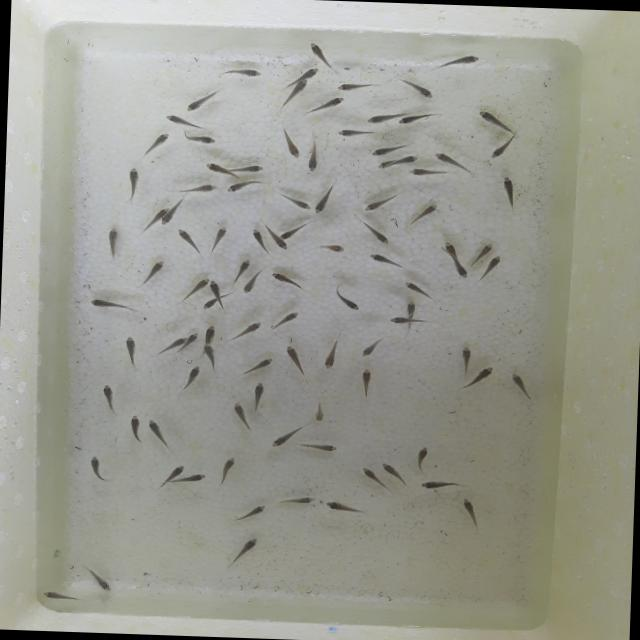fingerling: (261, 120, 303, 162), (428, 49, 492, 72), (182, 86, 225, 115), (406, 200, 446, 230), (132, 258, 168, 290), (468, 106, 512, 130), (352, 335, 392, 361), (320, 332, 346, 372), (173, 276, 210, 304), (391, 276, 438, 298), (224, 536, 256, 568), (304, 39, 339, 68), (414, 474, 464, 494), (356, 460, 382, 498), (283, 342, 310, 378), (358, 193, 404, 214), (278, 486, 320, 509), (268, 419, 300, 448), (312, 93, 349, 118), (364, 250, 406, 272), (396, 111, 446, 129), (172, 365, 203, 394), (86, 298, 138, 315), (154, 462, 188, 488), (332, 76, 378, 95), (498, 174, 524, 207), (322, 498, 369, 516), (272, 305, 301, 334), (395, 77, 437, 97), (366, 140, 408, 160), (505, 369, 535, 397), (436, 150, 474, 172), (464, 364, 496, 390), (121, 336, 147, 368), (314, 186, 341, 216), (140, 129, 168, 157), (85, 454, 108, 488), (162, 111, 201, 131), (120, 166, 146, 196), (225, 400, 251, 430), (248, 380, 272, 412), (80, 570, 112, 594), (241, 266, 268, 294), (232, 319, 260, 346), (452, 344, 477, 374), (216, 454, 241, 484), (238, 354, 272, 376), (94, 380, 118, 411), (362, 223, 394, 246), (488, 136, 518, 160), (378, 460, 408, 484), (231, 502, 267, 522), (245, 223, 268, 254), (464, 240, 495, 263), (411, 442, 433, 474), (175, 228, 202, 254), (358, 110, 393, 130), (276, 191, 311, 211), (146, 416, 169, 446), (332, 284, 358, 310), (336, 126, 381, 141), (206, 225, 231, 252), (178, 471, 210, 492), (176, 132, 217, 148), (288, 76, 308, 108), (102, 223, 122, 255), (356, 364, 376, 396), (269, 270, 304, 288), (480, 254, 506, 278), (220, 66, 264, 80), (277, 223, 310, 241), (197, 160, 234, 176), (180, 181, 217, 197), (156, 335, 184, 356), (298, 442, 340, 456), (232, 160, 266, 177), (311, 398, 335, 422), (41, 589, 82, 603), (230, 255, 252, 281), (438, 238, 461, 262), (197, 321, 221, 344), (125, 414, 142, 446), (222, 180, 260, 194), (162, 210, 188, 230), (410, 168, 456, 179), (462, 496, 480, 524), (306, 140, 319, 176), (202, 342, 220, 368), (316, 240, 350, 253), (387, 314, 429, 324), (393, 152, 418, 168), (448, 262, 468, 282), (152, 199, 169, 221), (206, 279, 228, 296), (199, 297, 223, 311), (374, 158, 394, 174), (297, 65, 316, 80), (184, 332, 198, 352), (402, 302, 418, 316), (272, 240, 288, 250)
